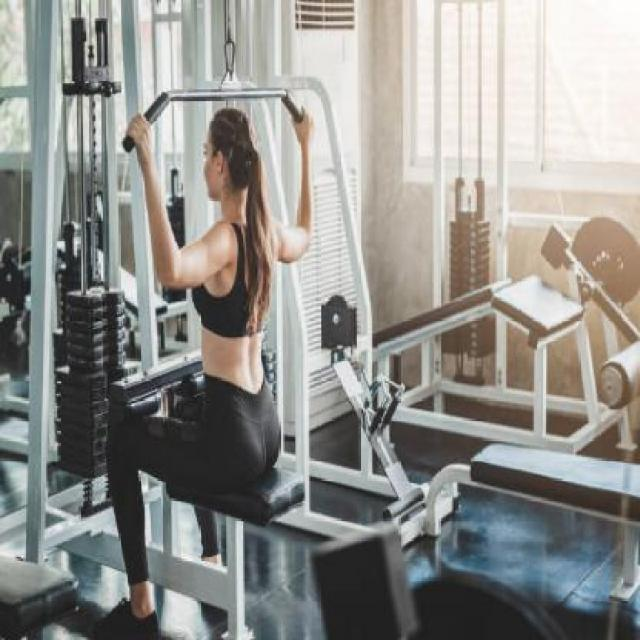Lat Pull Down: (28, 0, 372, 640)
